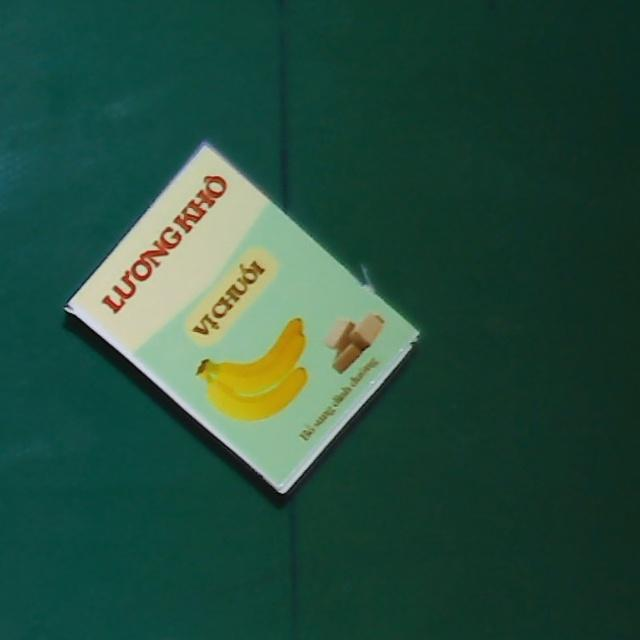chuoi: (61, 143, 424, 500)
